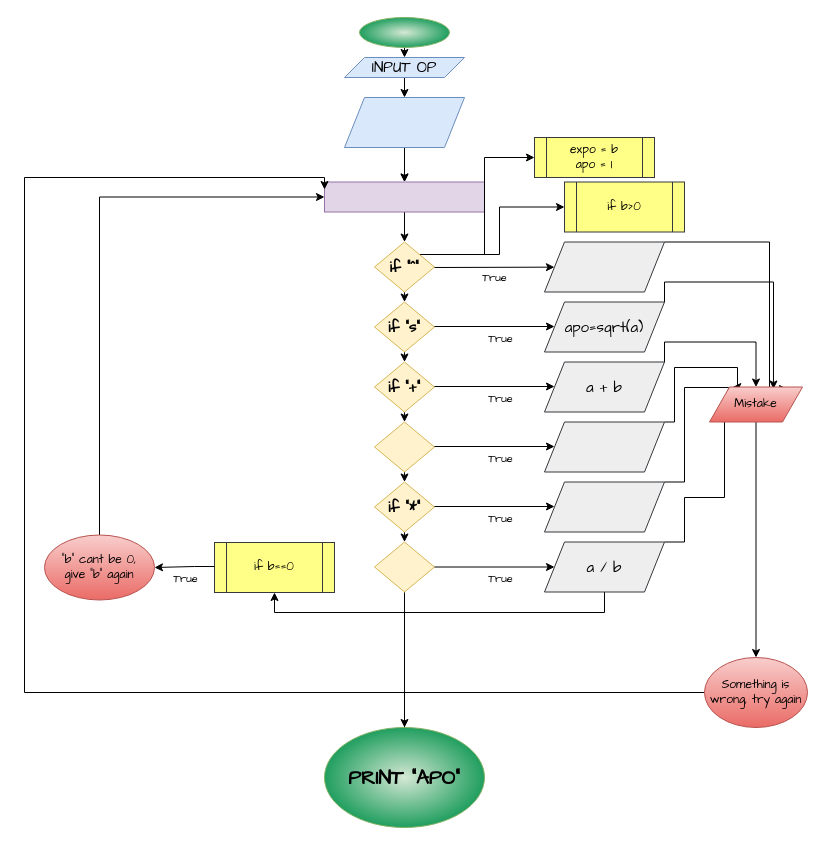
This 825x845 diagram has some shape labels left out. Here are the shapes that lost their labels. From the top down, the centre of each, then its label:
(x=404, y=32): START
(x=404, y=122): INPUT a, b, apo
(x=404, y=196): CALCULATE
(x=604, y=266): while b!=0 apo=apo*a b--
(x=404, y=446): if "-"
(x=604, y=446): a - b
(x=604, y=506): a * b
(x=404, y=566): if "/"
